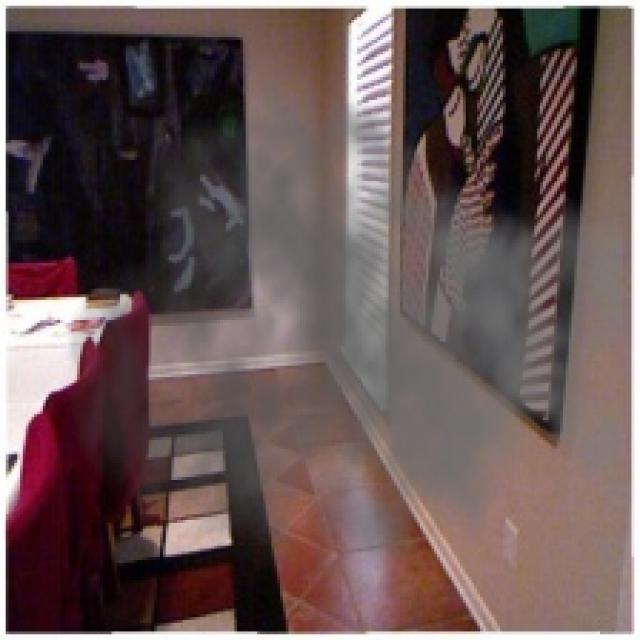Smoke: (66, 71, 623, 632)
